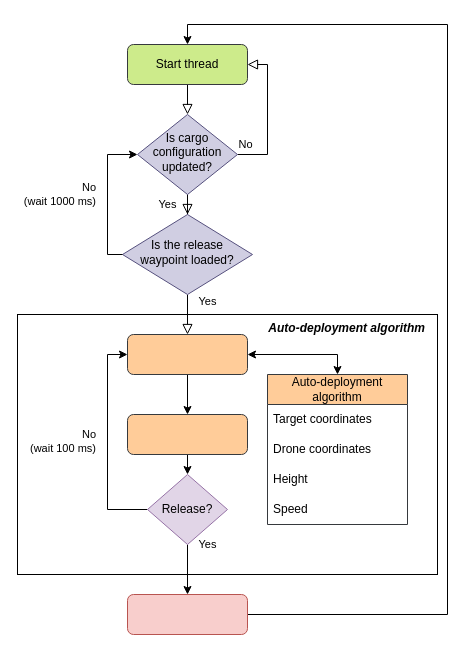
Image size: 473x652. Some labels were removed from this diagram. Each missing label, with the box of its shape:
Calculate distances: (126, 414, 248, 454)
Read information: (126, 334, 248, 374)
Send information to the GCS: (126, 594, 248, 634)
